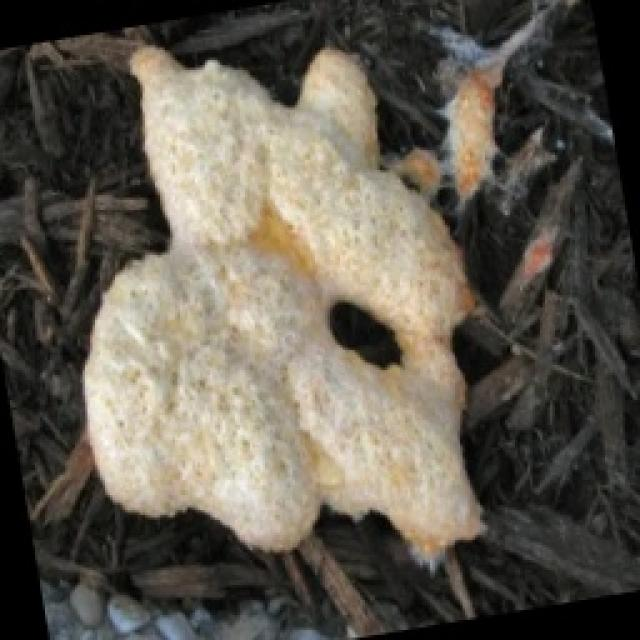Dog_vomit_slime_mold: (92, 42, 551, 575)
